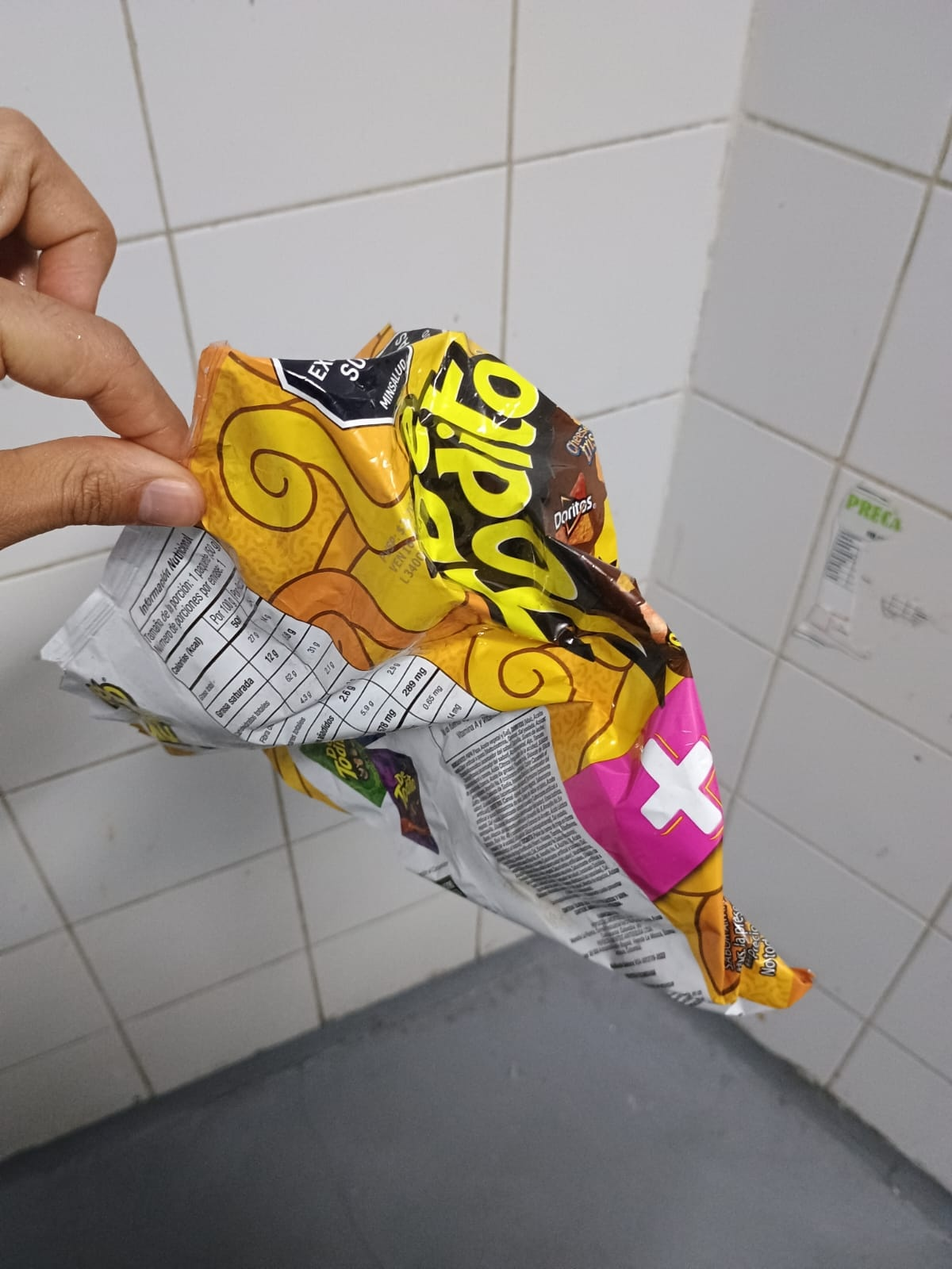Ordinario: (34, 326, 814, 1019)
